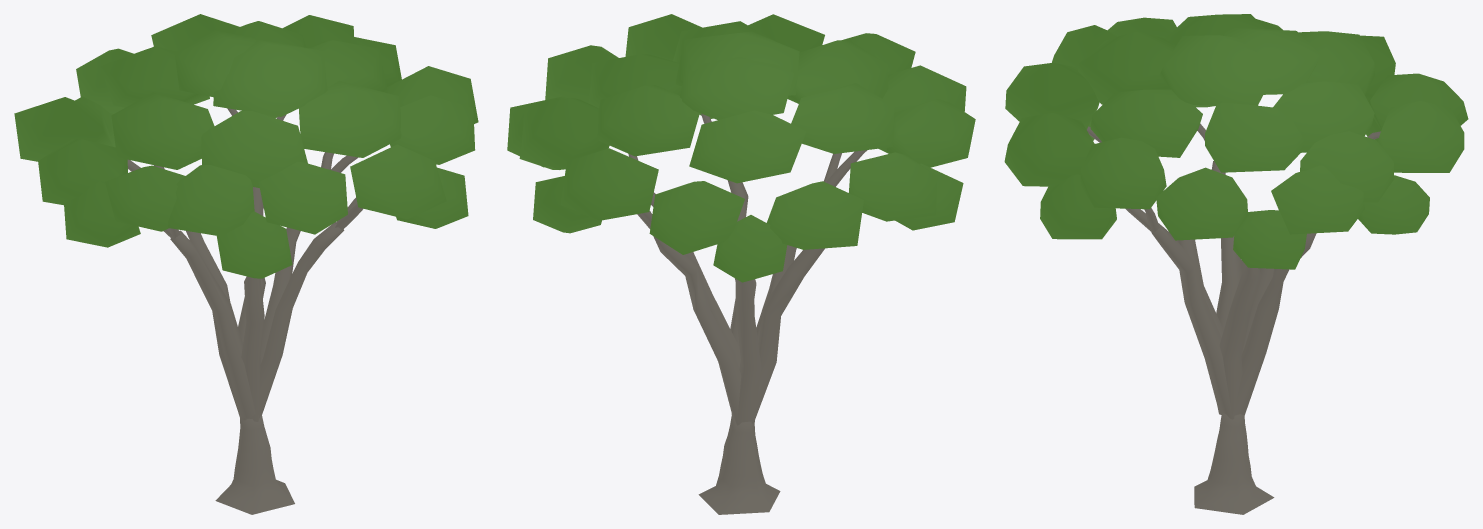
The model's file is Blender_AmericanElm_1_Far.glb.
3 renders of one model, left to right at view 1: azimuth 30°, elevation 25°; view 2: azimuth 150°, elevation 25°; view 3: azimuth 270°, elevation 25°, orthographic. The views are drawn at different scales.
Parts seen in each view (by area): view 1: Blender_AmericanElm_1_Far; view 2: Blender_AmericanElm_1_Far; view 3: Blender_AmericanElm_1_Far.
Boxes of the visible parts, left/top/right/bottom form: Blender_AmericanElm_1_Far: left=14, top=14, right=478, bottom=514; Blender_AmericanElm_1_Far: left=507, top=14, right=975, bottom=514; Blender_AmericanElm_1_Far: left=1004, top=14, right=1468, bottom=514.
Bounding box in the file's own units: 23.78 × 25.48 × 23.01.
